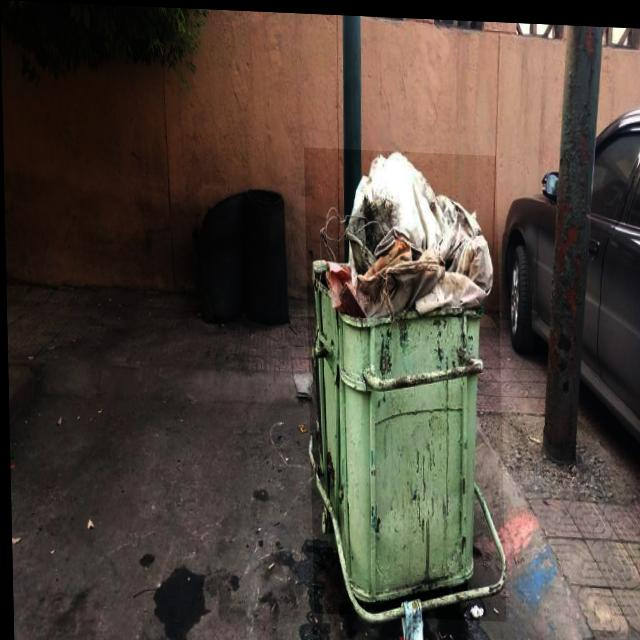overflow: (303, 145, 503, 618)
